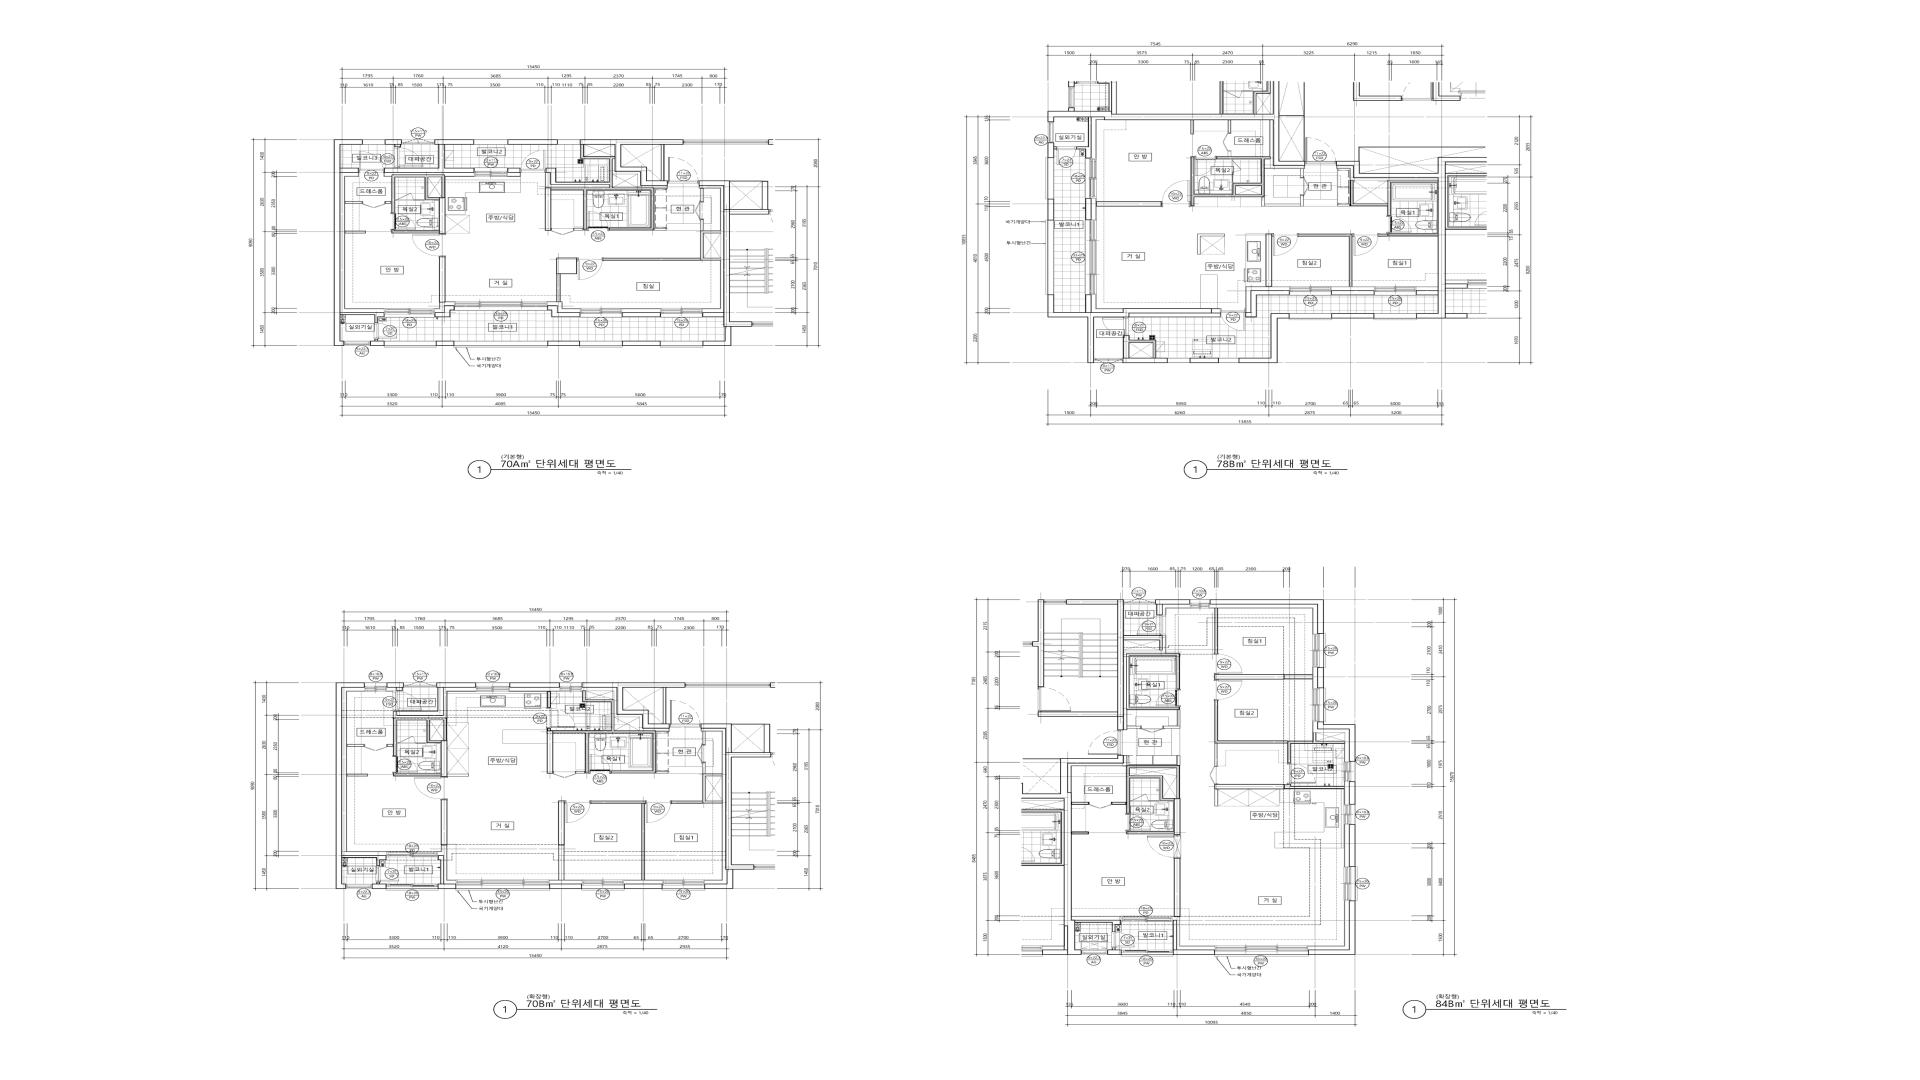door: (667, 157, 699, 183), (669, 700, 700, 727), (1038, 687, 1071, 712), (1088, 731, 1121, 756), (1305, 137, 1336, 164), (1147, 835, 1180, 858), (413, 233, 446, 257), (1162, 181, 1191, 207), (1352, 233, 1379, 256), (1137, 615, 1166, 636), (1220, 309, 1246, 331), (1273, 233, 1299, 256), (520, 150, 546, 173), (564, 800, 591, 823), (645, 800, 671, 823), (1215, 679, 1242, 700), (1288, 764, 1316, 785), (394, 148, 423, 167), (576, 258, 603, 280), (1215, 654, 1242, 674), (547, 708, 575, 728), (393, 691, 421, 711), (359, 152, 384, 173), (1126, 814, 1151, 832), (1102, 318, 1129, 335), (587, 211, 609, 231), (588, 754, 611, 773), (1156, 690, 1180, 707), (1387, 216, 1411, 233), (393, 756, 417, 773), (1195, 157, 1216, 175), (392, 214, 415, 229), (1112, 932, 1134, 948), (375, 323, 397, 339), (377, 866, 398, 882), (695, 200, 704, 220), (553, 771, 576, 778), (1141, 727, 1163, 733), (1089, 802, 1112, 808), (551, 228, 574, 235), (363, 202, 385, 208), (1130, 794, 1149, 802), (1209, 766, 1217, 785), (1224, 133, 1232, 152), (397, 736, 415, 744), (1300, 178, 1308, 195), (396, 193, 413, 200), (698, 745, 705, 762), (364, 745, 386, 750), (1232, 160, 1241, 171)
wall: (1047, 82, 1305, 166), (1336, 157, 1445, 319), (1038, 600, 1163, 731), (1060, 756, 1124, 955), (1047, 294, 1220, 363), (700, 724, 771, 889), (699, 181, 769, 345), (335, 683, 386, 889), (334, 140, 384, 345), (545, 145, 654, 231), (547, 691, 657, 774), (1215, 700, 1345, 764), (342, 687, 386, 856), (340, 173, 384, 313), (582, 683, 686, 729), (603, 220, 720, 261), (580, 140, 683, 186), (1112, 766, 1180, 835), (591, 800, 645, 880), (1124, 636, 1166, 731), (1209, 600, 1324, 634), (1191, 157, 1271, 206), (702, 729, 727, 884), (582, 687, 670, 731), (1211, 604, 1317, 634), (393, 717, 447, 777), (699, 186, 724, 313), (384, 140, 475, 173), (1126, 654, 1180, 709), (1299, 233, 1353, 286), (397, 683, 476, 716), (1308, 901, 1356, 955), (393, 687, 476, 717), (1238, 314, 1290, 363), (1265, 120, 1305, 178), (1068, 756, 1127, 793), (392, 174, 444, 214), (1308, 901, 1349, 949), (1317, 721, 1356, 762), (1312, 721, 1349, 762), (613, 160, 667, 187), (1336, 166, 1437, 181), (1172, 920, 1215, 955), (1172, 916, 1215, 949), (550, 845, 582, 884), (1246, 290, 1290, 318), (1124, 335, 1167, 363), (1246, 286, 1290, 313), (1033, 600, 1044, 687), (1215, 785, 1345, 790), (438, 845, 455, 884), (1197, 233, 1225, 255), (438, 856, 455, 889), (1092, 294, 1122, 313), (1155, 600, 1191, 615), (1215, 674, 1312, 679), (1262, 195, 1304, 207), (1092, 117, 1104, 158), (705, 777, 723, 800), (1174, 858, 1180, 918), (1129, 343, 1153, 359), (1129, 314, 1220, 318), (384, 173, 475, 177), (547, 306, 580, 316), (547, 302, 580, 313), (1096, 202, 1162, 207), (1266, 233, 1273, 286), (1163, 709, 1180, 729), (556, 257, 576, 274), (440, 799, 447, 845), (439, 257, 446, 302), (430, 720, 443, 742), (558, 800, 564, 845), (1163, 604, 1191, 615), (1349, 824, 1356, 866), (508, 140, 558, 145), (439, 198, 446, 233), (1344, 824, 1349, 866), (1332, 290, 1374, 295), (1332, 314, 1374, 319), (435, 306, 455, 316), (435, 302, 455, 313), (624, 884, 662, 889), (509, 687, 559, 691), (509, 683, 559, 687), (1072, 916, 1121, 920), (392, 229, 439, 233), (1215, 608, 1218, 654), (1332, 286, 1374, 290), (550, 884, 582, 889), (1189, 357, 1218, 363), (624, 880, 662, 884), (622, 309, 661, 313), (622, 342, 661, 345), (622, 313, 661, 316), (1349, 782, 1356, 804), (1085, 198, 1092, 220), (1047, 142, 1056, 158), (661, 145, 665, 181), (1317, 667, 1324, 688), (1047, 199, 1054, 220), (385, 140, 402, 148), (386, 683, 404, 691), (547, 342, 579, 345), (671, 800, 703, 804), (1344, 782, 1349, 804), (1312, 667, 1317, 688), (508, 167, 520, 177), (556, 274, 560, 302), (663, 687, 666, 724), (372, 882, 386, 889), (1092, 198, 1096, 220), (1108, 948, 1121, 955), (371, 339, 384, 345), (1416, 286, 1437, 290), (1215, 790, 1218, 807), (436, 342, 454, 345), (547, 691, 551, 708), (1215, 744, 1217, 766), (447, 774, 468, 777), (1228, 120, 1232, 133), (345, 231, 365, 233), (700, 189, 704, 202), (345, 202, 363, 204), (731, 181, 762, 182), (732, 724, 764, 725), (386, 687, 397, 691), (1191, 120, 1193, 135), (654, 228, 666, 231), (1178, 756, 1180, 766), (574, 228, 584, 231), (1228, 152, 1232, 157), (1337, 204, 1350, 206), (385, 202, 392, 204), (386, 744, 393, 746), (413, 199, 425, 200), (657, 771, 669, 773), (1149, 800, 1159, 802), (1232, 171, 1233, 182), (415, 742, 426, 744), (576, 771, 585, 773)
window: (455, 880, 550, 890), (1215, 945, 1308, 956), (1085, 220, 1096, 294), (455, 302, 547, 310), (454, 342, 547, 348), (1046, 220, 1054, 295), (384, 309, 435, 318), (1344, 866, 1357, 901), (662, 880, 704, 890), (582, 880, 624, 890), (1312, 688, 1325, 721), (1312, 634, 1325, 667), (1085, 158, 1096, 198), (1290, 286, 1332, 295), (1374, 286, 1416, 295), (661, 309, 703, 318), (580, 309, 622, 318), (384, 342, 436, 348), (1046, 158, 1054, 199), (475, 167, 508, 177), (579, 342, 622, 348), (1121, 951, 1174, 956), (1290, 314, 1332, 320), (1374, 314, 1416, 320), (661, 342, 703, 348), (1121, 916, 1172, 922), (386, 852, 438, 857), (386, 885, 438, 890), (476, 683, 509, 691), (1344, 804, 1356, 824), (1344, 762, 1356, 782), (402, 138, 434, 145), (473, 140, 508, 145), (559, 683, 582, 691), (364, 683, 386, 691), (404, 682, 436, 687), (1124, 599, 1155, 604), (1191, 600, 1211, 608), (1095, 359, 1124, 364), (1047, 123, 1054, 142), (1167, 357, 1189, 363), (363, 140, 385, 145), (558, 140, 580, 145), (1081, 951, 1108, 955), (345, 885, 372, 889), (1218, 357, 1238, 363), (344, 342, 371, 345), (1044, 600, 1067, 604)
